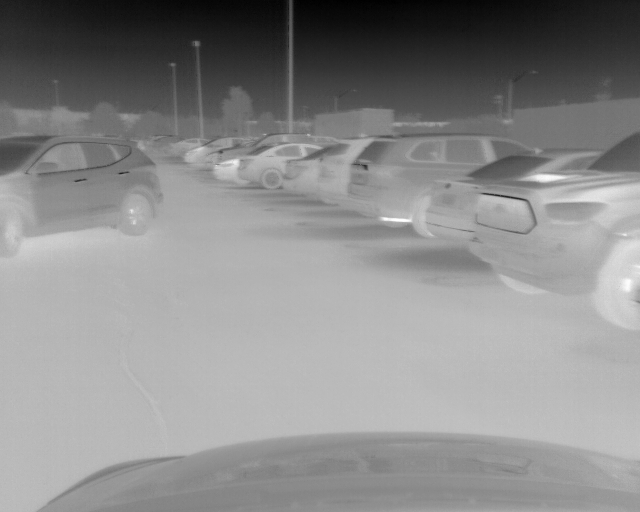car: (468, 127, 640, 329), (1, 134, 163, 260), (337, 133, 548, 227), (427, 147, 605, 242), (211, 130, 327, 188), (314, 136, 379, 204), (236, 145, 320, 188), (187, 136, 254, 169), (285, 149, 318, 198), (168, 137, 207, 157)
